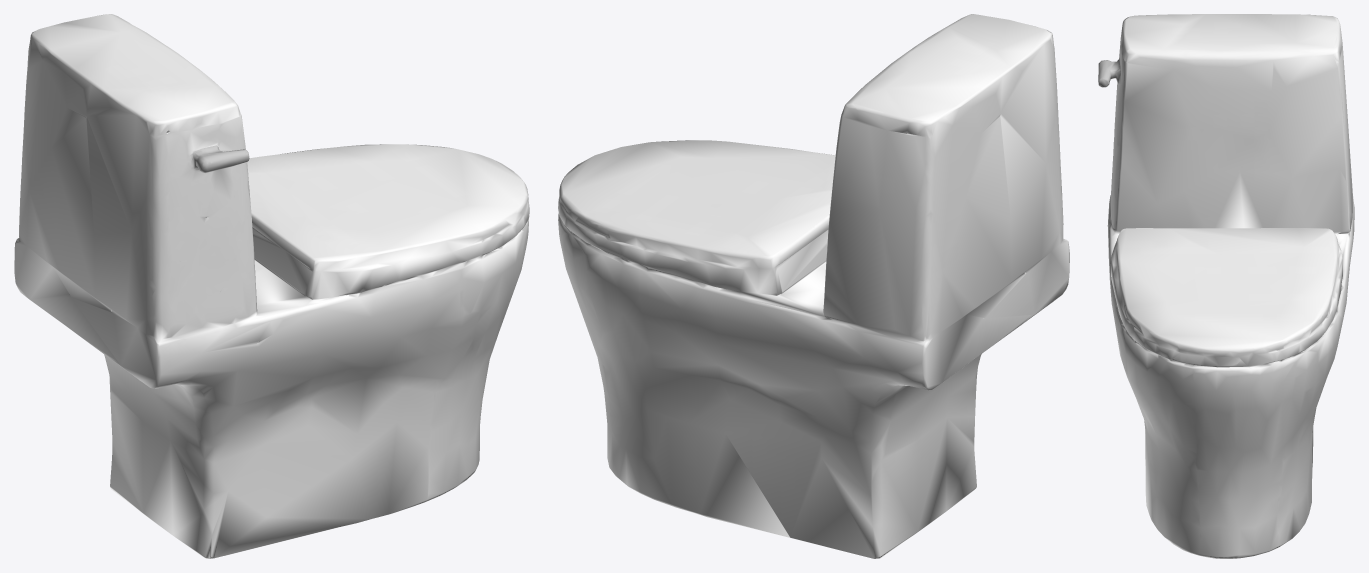
File: mhPQqIgCWnDO5jWbZ8Cjk.glb
3 renders of one model, left to right at view 1: azimuth 30°, elevation 25°; view 2: azimuth 150°, elevation 25°; view 3: azimuth 270°, elevation 25°, orthographic. The views are drawn at different scales.
Visible parts, largest first — view 1: geometry_0; view 2: geometry_0; view 3: geometry_0.
Boxes of the visible parts, <box> form: geometry_0: <box>14,14,529,558</box>; geometry_0: <box>558,14,1069,558</box>; geometry_0: <box>1098,14,1354,558</box>.
Bounding box in the file's own units: 0.9745 × 1 × 0.5984.
Materials: 1 (1 with a texture image).
